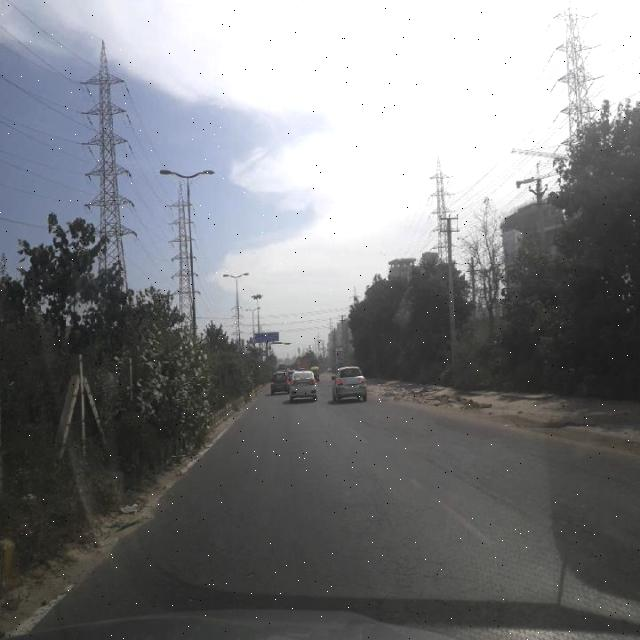D20: (67, 423, 637, 619)
D44: (404, 468, 489, 542)
